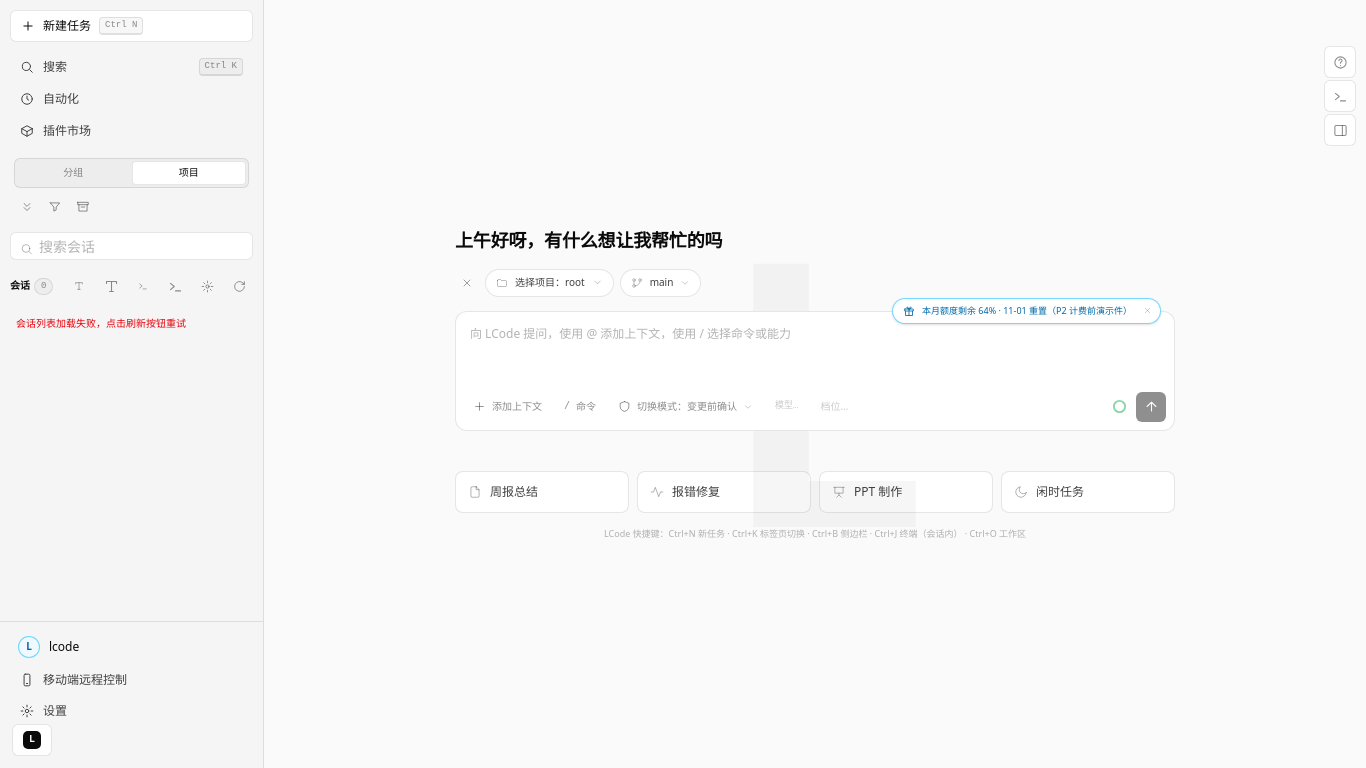
Test case: HomeView · 空态首页结构（B1） › quota-tip 胶囊默认可见，× 关闭后消失（C-06 演示件）
Expected: the element with test id "quota-tip" reads "本月额度剩余 64% · 11-01 重置（P2 计费前演示件）", [922,304,1132,317]
Click the button with test id "quota-tip-close" at x=1147, y=311, box [1139,303,1155,319]
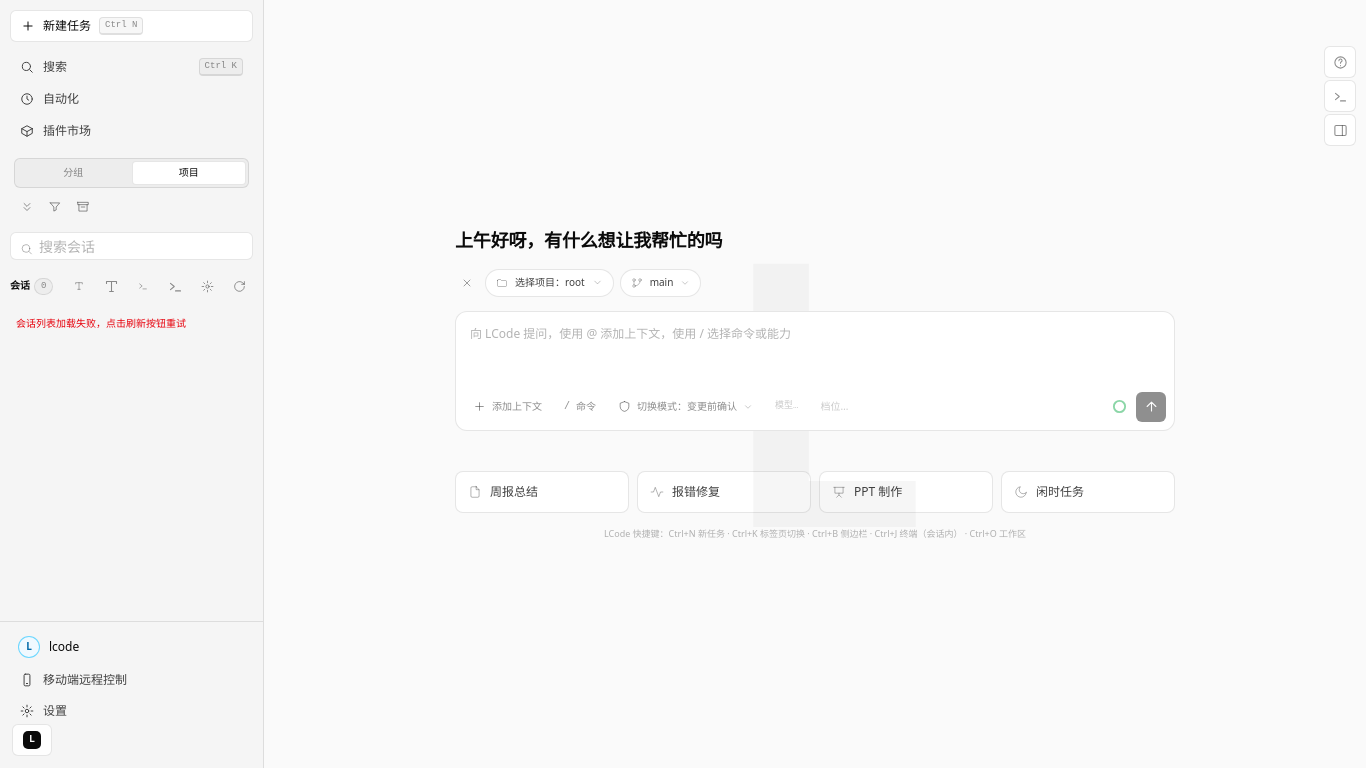
Expected: the element with test id "quota-tip" is gone
